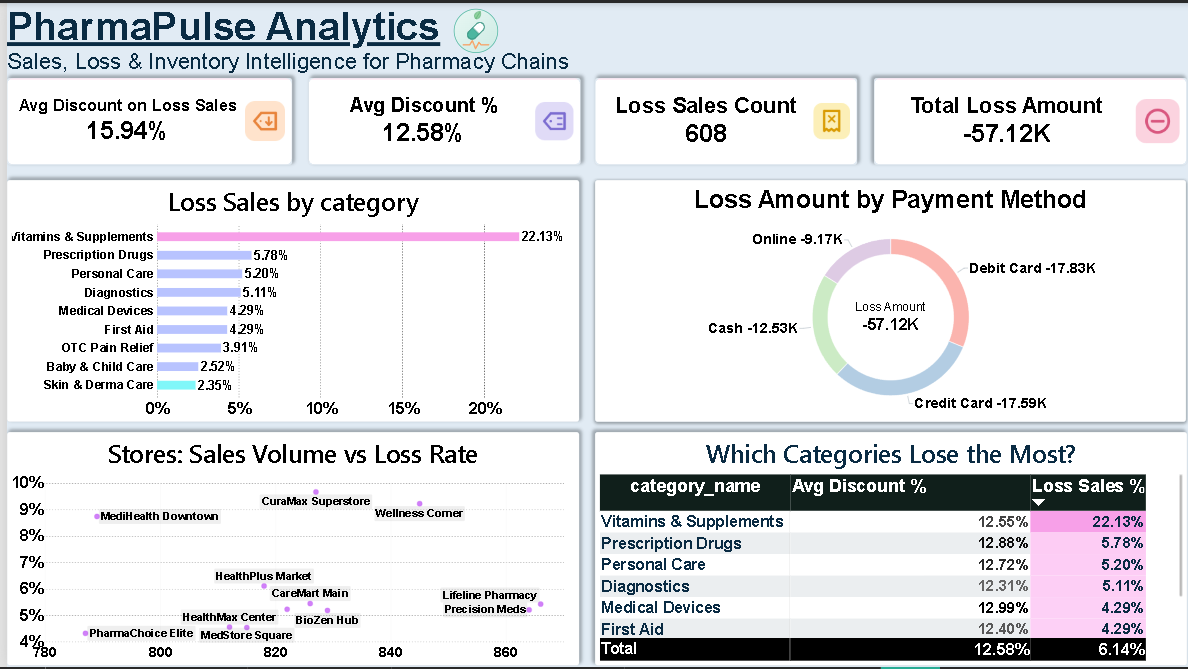

What the dashboard file says about the page in this screenshot:
{"tool":"powerbi","page":{"name":"Loss Sales ","canvas":[3840,2160],"ordinal":1},"visuals":[{"type":"textbox","box":[0,0,1849,245.1],"z":0},{"type":"cardVisual","fields":{"Data":["Sales_clean.Avg Discount on Loss Sales"]},"box":[0,245.1,927.2,282.4],"z":1000},{"type":"cardVisual","fields":{"Data":["Sales_clean.Avg Discount %"]},"box":[978.7,245.1,884.5,282.4],"z":2000},{"type":"cardVisual","fields":{"Data":["Sales_clean.Loss Sales Count"]},"box":[1914.7,245.1,852.6,282.4],"z":3000},{"type":"cardVisual","fields":{"Data":["Sales_clean.Total Loss Amount"]},"box":[2818.8,245.1,1017.7,282.4],"z":4000},{"type":"barChart","title":"Loss Sales by category","fields":{"Category":["categories (2).category_name"],"Y":["Sales_clean.Loss Sales %"]},"box":[0,576.4,1861,786.4],"z":5000},{"type":"scatterChart","title":"Stores: Sales Volume vs Loss Rate","fields":{"Category":["stores (2).store_name"],"X":["CountNonNull(Sales_clean.sale_id)"],"Y":["Sales_clean.Loss Sales %"]},"box":[0,1397.8,1861,759.5],"z":6000},{"type":"pivotTable","title":"Which Categories Lose the Most?","fields":{"Rows":["categories (2).category_name"],"Values":["Sales_clean.Avg Discount %","Sales_clean.Loss Sales %"]},"box":[1914.9,1397.8,1925.7,759.5],"z":7000},{"type":"image","box":[1369.4,0,309.1,181.2],"z":8000},{"type":"donutChart","title":"Loss Amount by Payment Method","fields":{"Category":["Sales_clean.payment_method"],"Y":["Sales_clean.Loss Amount"]},"box":[1914.9,576.4,1923,786.4],"z":9000}]}

Visuals, with their boxes in screenshot pixels (x1, y1, x2, y2), scaled from the page's 3840x2160 canvas onto the 1188x669 screenshot:
textbox: {"left": 0, "top": 0, "right": 572, "bottom": 76}
cardVisual - Sales_clean.Avg Discount on Loss Sales: {"left": 0, "top": 76, "right": 287, "bottom": 163}
cardVisual - Sales_clean.Avg Discount %: {"left": 303, "top": 76, "right": 576, "bottom": 163}
cardVisual - Sales_clean.Loss Sales Count: {"left": 592, "top": 76, "right": 856, "bottom": 163}
cardVisual - Sales_clean.Total Loss Amount: {"left": 872, "top": 76, "right": 1187, "bottom": 163}
"Loss Sales by category" barChart: {"left": 0, "top": 179, "right": 576, "bottom": 422}
"Stores: Sales Volume vs Loss Rate" scatterChart: {"left": 0, "top": 433, "right": 576, "bottom": 668}
"Which Categories Lose the Most?" pivotTable: {"left": 592, "top": 433, "right": 1187, "bottom": 668}
image: {"left": 424, "top": 0, "right": 519, "bottom": 56}
"Loss Amount by Payment Method" donutChart: {"left": 592, "top": 179, "right": 1187, "bottom": 422}
